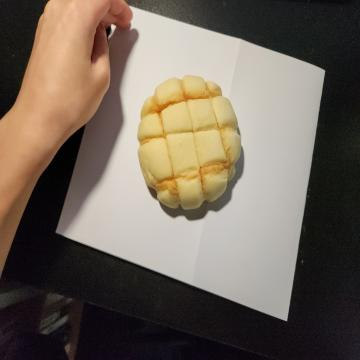melon_bread: (138, 75, 244, 212)
